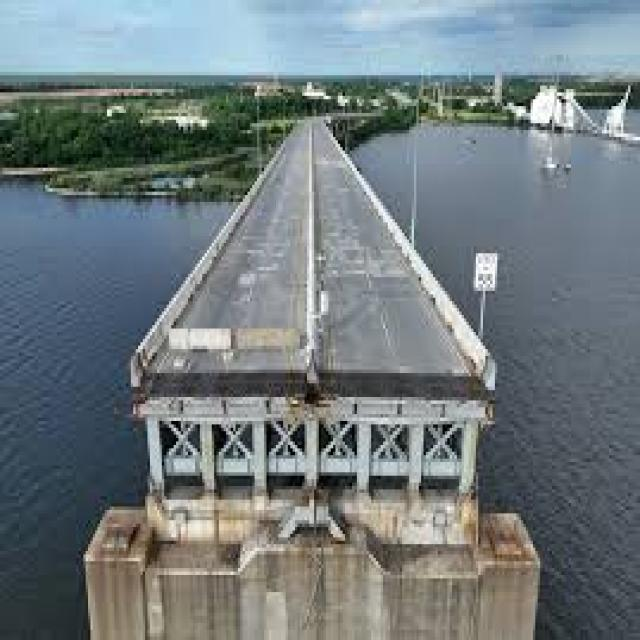bridge collapse: (60, 288, 613, 640)
